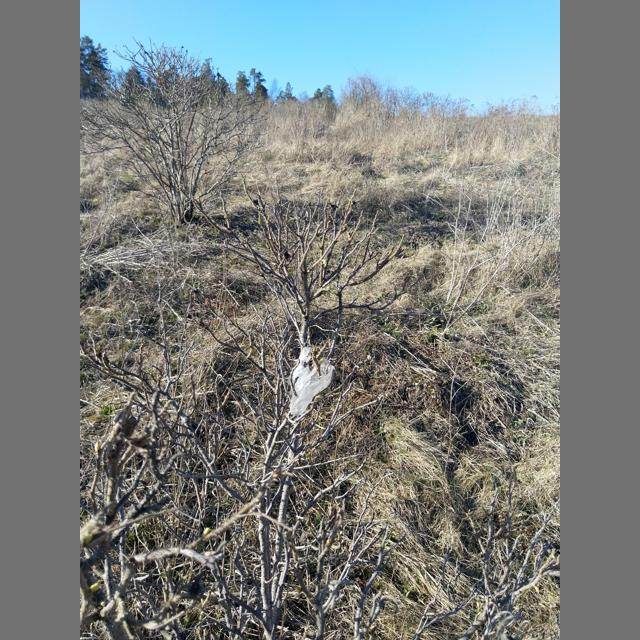litter: (287, 347, 333, 416)
